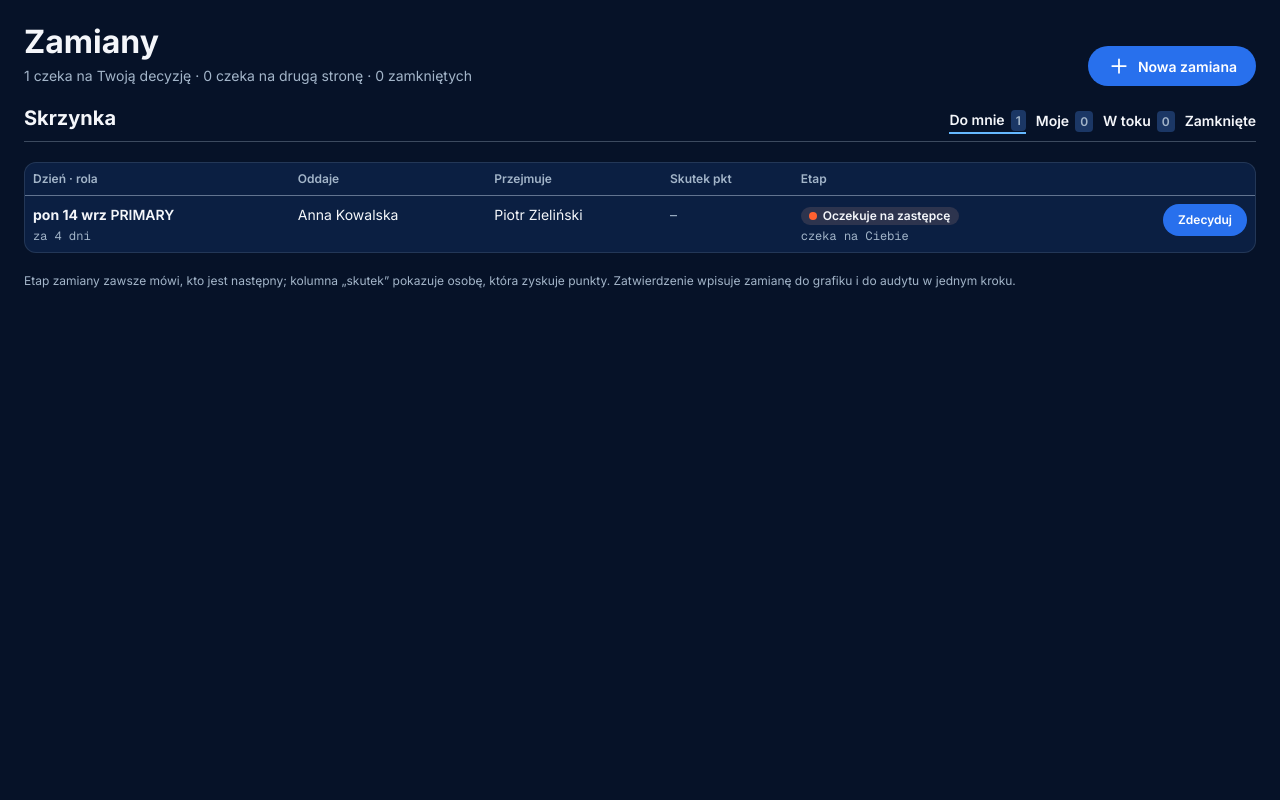
Test: SwapPanel inbox › opens on "Do mnie" when a request waits for me and decides it in the sheet
Expected: the text "1 czeka na Twoją decyzję · 0 czeka na drugą stronę · 0 zamkniętych" is shown, [24, 65, 472, 86]
Expected: the text "czeka na Ciebie" is shown, [801, 228, 909, 244]
Click the button "Zdecyduj": [1205, 220] box [1163, 204, 1247, 236]
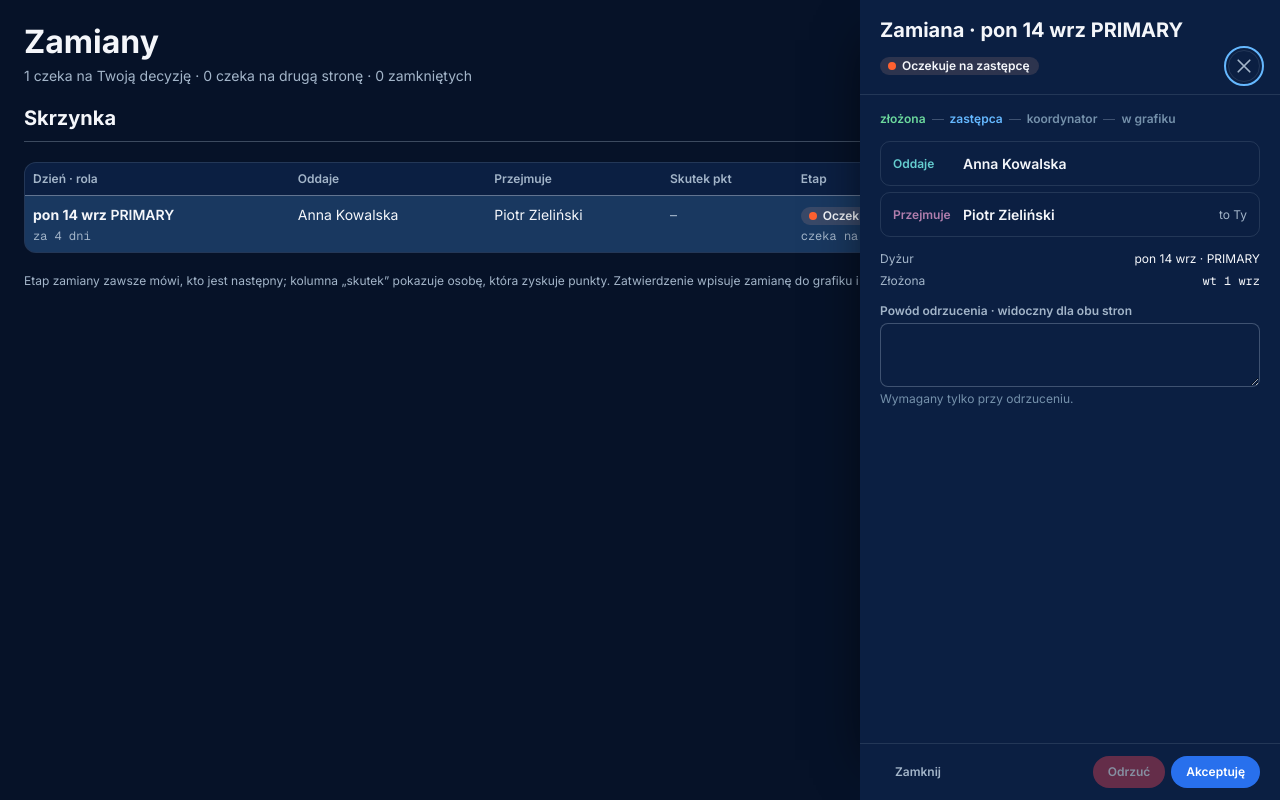
Now the button "Akceptuję" is enabled, box [1171, 756, 1260, 788]
Now the button "Odrzuć" is disabled, box [1093, 756, 1165, 788]
